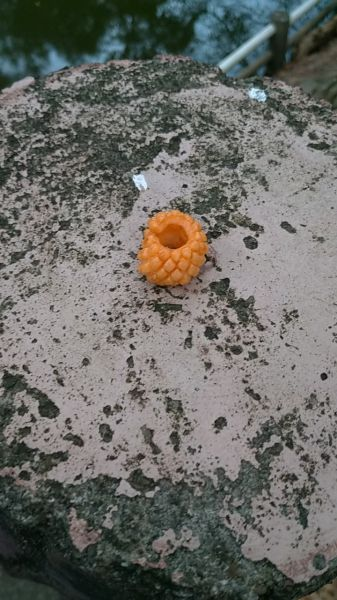eggs: (136, 207, 210, 289)
